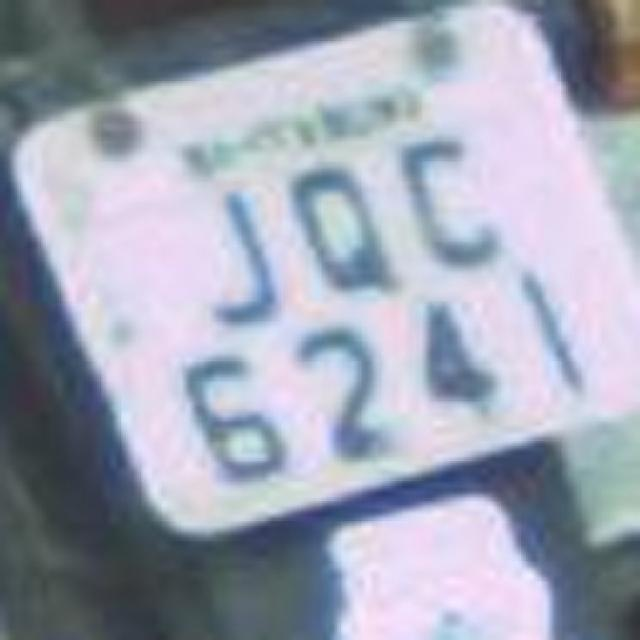1: (484, 252, 616, 416)
2: (260, 304, 415, 464)
4: (384, 268, 528, 440)
6: (160, 324, 308, 496)
C: (380, 112, 520, 280)
J: (171, 168, 304, 332)
Q: (280, 140, 408, 308)
